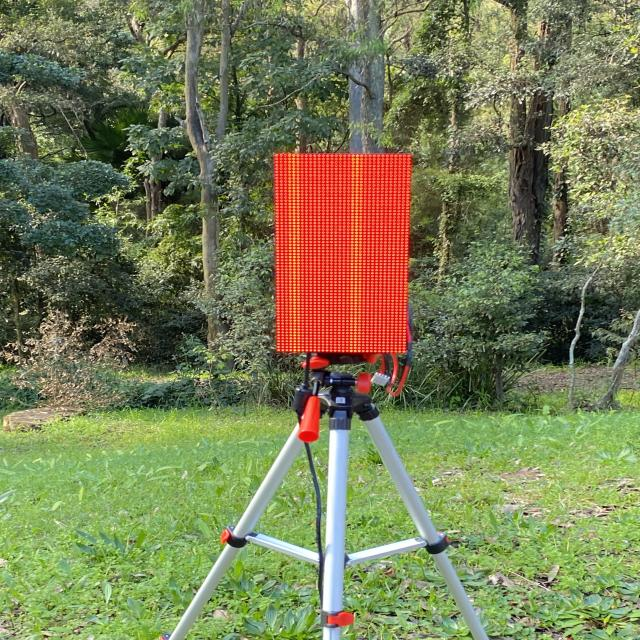matrix: (270, 148, 418, 364)
